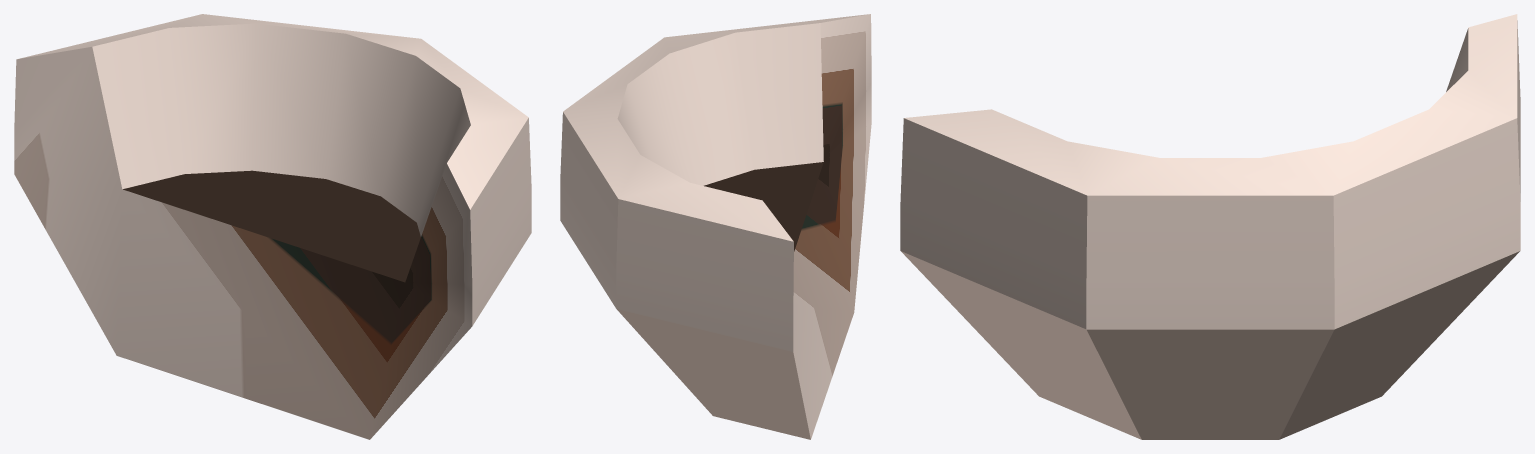
The model's file is PROP_Vase_5.fbx.
The picture shows the model from 3 angles, left to right: view 1: azimuth 30°, elevation 25°; view 2: azimuth 150°, elevation 25°; view 3: azimuth 270°, elevation 25°; orthographic projection. The views are drawn at different scales.
Visible parts, largest first — view 1: Vase_5; view 2: Vase_5; view 3: Vase_5.
Part boxes in pixels (left/top/right/bottom): Vase_5: left=14, top=14, right=531, bottom=439; Vase_5: left=560, top=14, right=871, bottom=439; Vase_5: left=900, top=14, right=1520, bottom=439.
Size of the model in its own units: 9.32 by 7.55 by 13.32.
